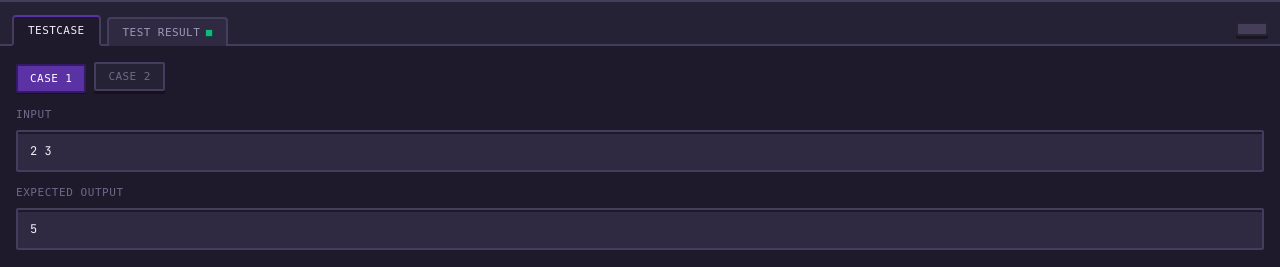
it: TestcaseConsole component › renders execution results on test result tab
# Switch to Test Result tab
Click the button with class "tab-btn" showing "Test Result": [167, 32] box [106,17,228,46]
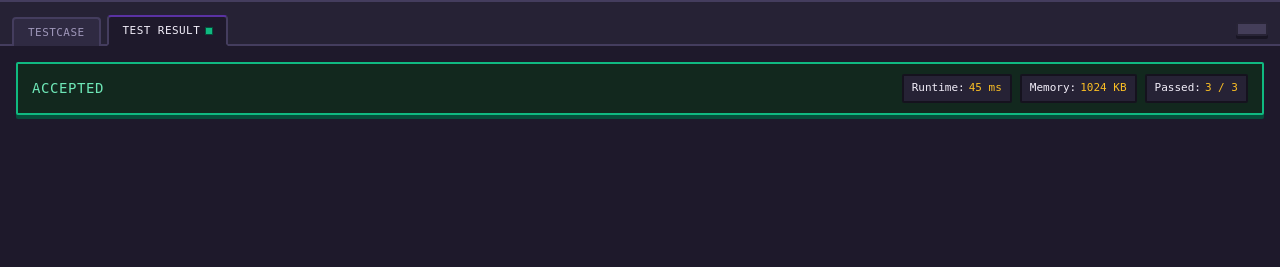
Result: the text "Accepted" is shown at [32,78,104,99]
Result: the text "45 ms" is shown at [969,80,1002,96]
Result: the text "1024 KB" is shown at [1080,80,1127,96]
